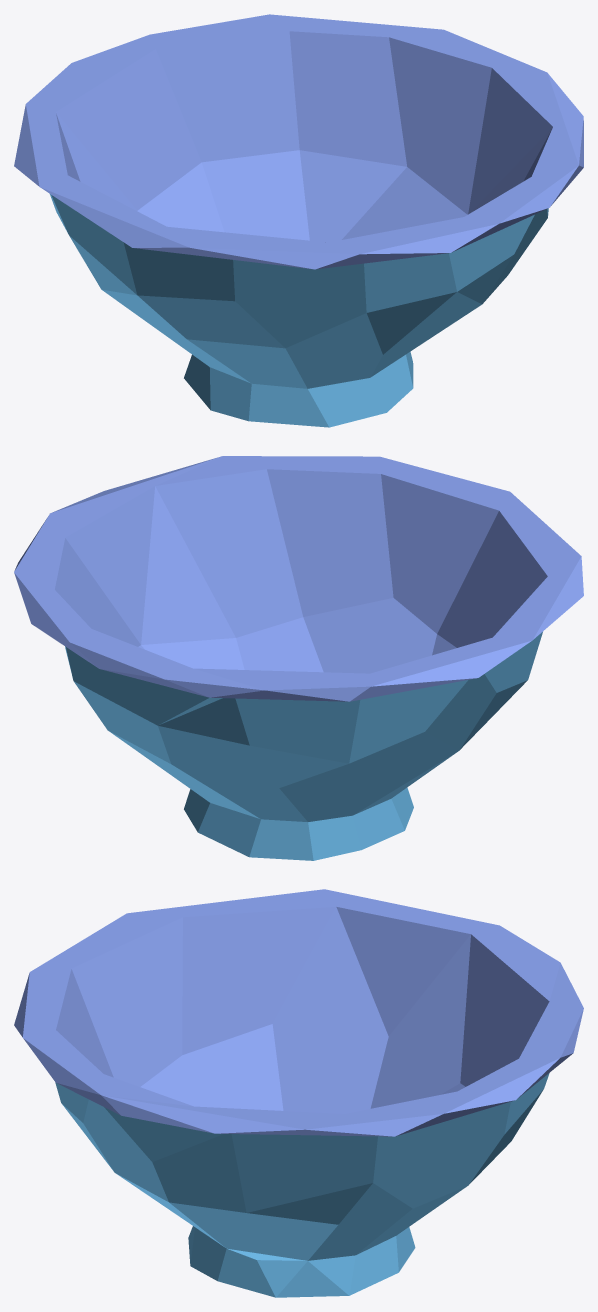
File: CerealBowlBlue.fbx
The picture shows the model from 3 angles, top to bottom: view 1: azimuth 30°, elevation 25°; view 2: azimuth 150°, elevation 25°; view 3: azimuth 270°, elevation 25°; orthographic projection.
Visible parts, largest first — view 1: CerealBowlLowPolyBlue; view 2: CerealBowlLowPolyBlue; view 3: CerealBowlLowPolyBlue.
Boxes of the visible parts, box(x1,y1,x2,y2) form: CerealBowlLowPolyBlue: box(14, 14, 583, 427); CerealBowlLowPolyBlue: box(14, 456, 583, 860); CerealBowlLowPolyBlue: box(14, 889, 583, 1297).
Size of the model in its own units: 15.75 by 7.4 by 15.77.
